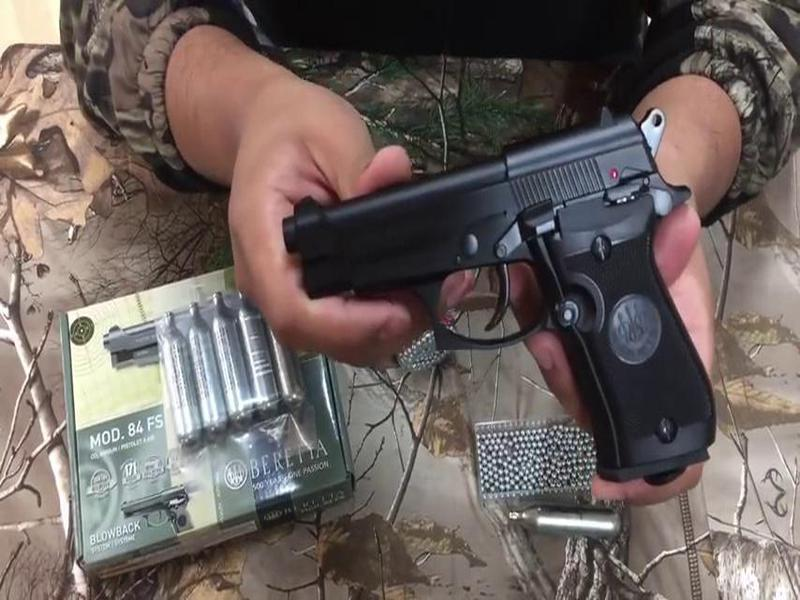Pistola: (290, 95, 735, 516)
